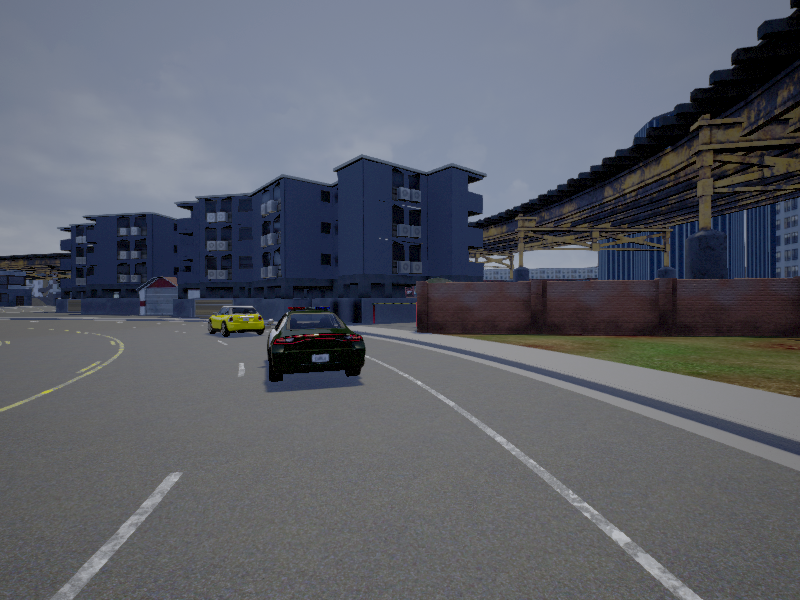Benign: (265, 308, 365, 382), (208, 304, 265, 339)
